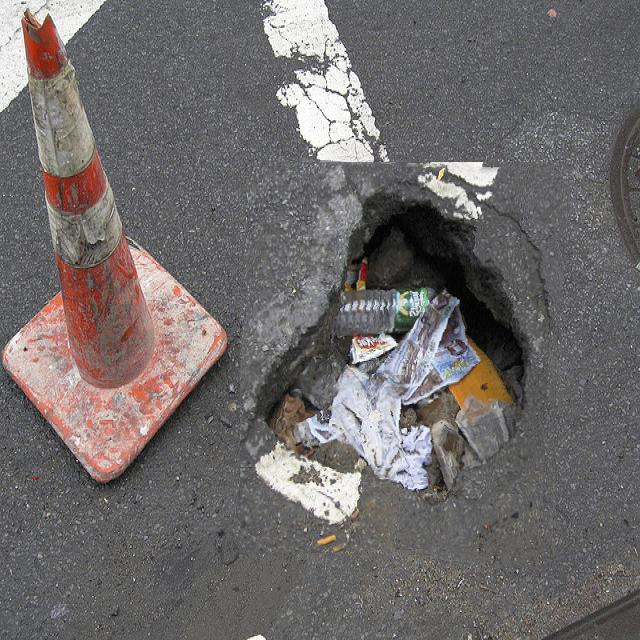Pothole: (240, 162, 564, 562)
